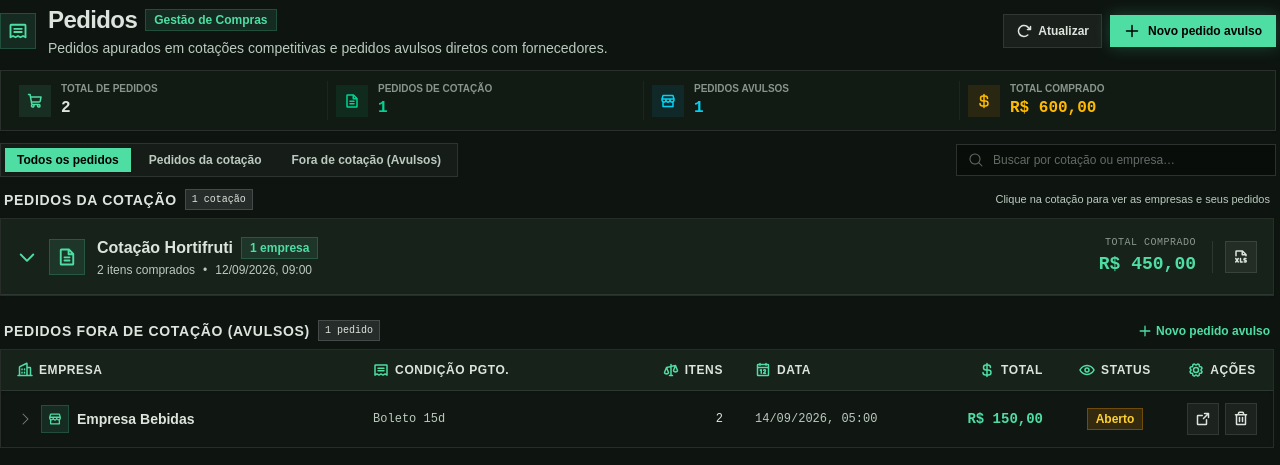
Test: filtra por tipo de pedido e permite buscar por texto
Expected: the heading "Cotação Hortifruti" is shown, top-left (97, 236), bottom-right (233, 260)
Expected: the text "Empresa Bebidas" is shown, top-left (77, 409), bottom-right (194, 429)
Filtra só para avulsos
Click the button "Fora de cotação (Avulsos)" at (366, 160), box top-left (280, 148), bottom-right (453, 172)
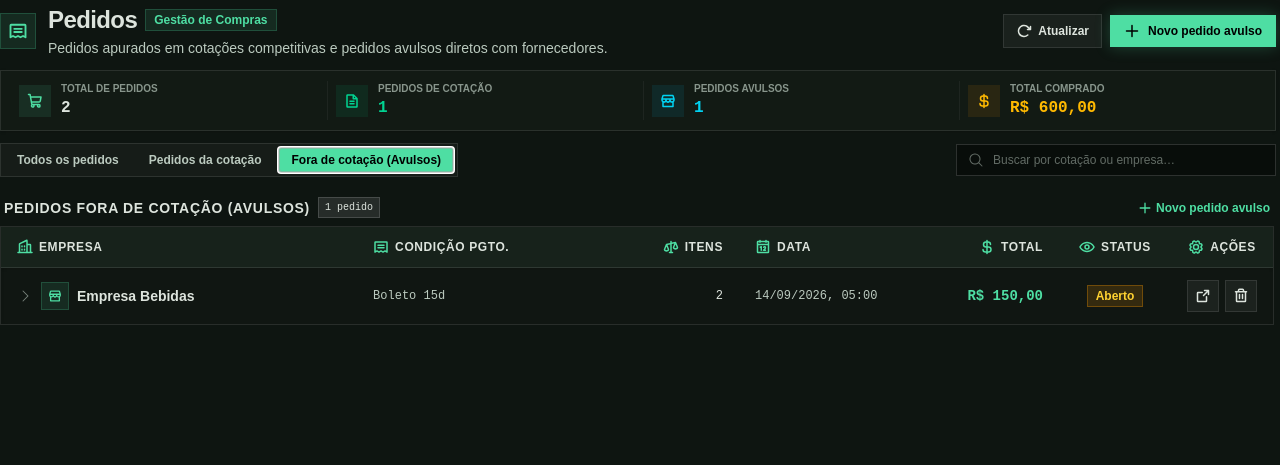
Expected: the text "Empresa Bebidas" is shown, top-left (77, 286), bottom-right (194, 306)
Result: the button "Cotação Hortifruti" is gone
Click the button "Todos os pedidos" at (68, 160), box top-left (5, 148), bottom-right (131, 172)
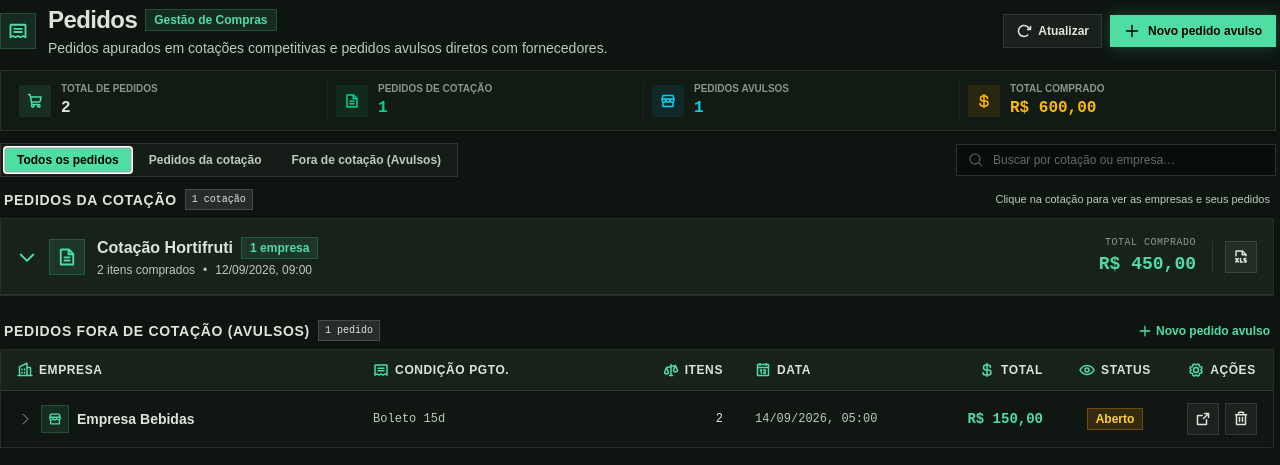
Type "Hortifruti" into the search field named "Buscar pedidos" at (1116, 160), box top-left (956, 144), bottom-right (1276, 176)
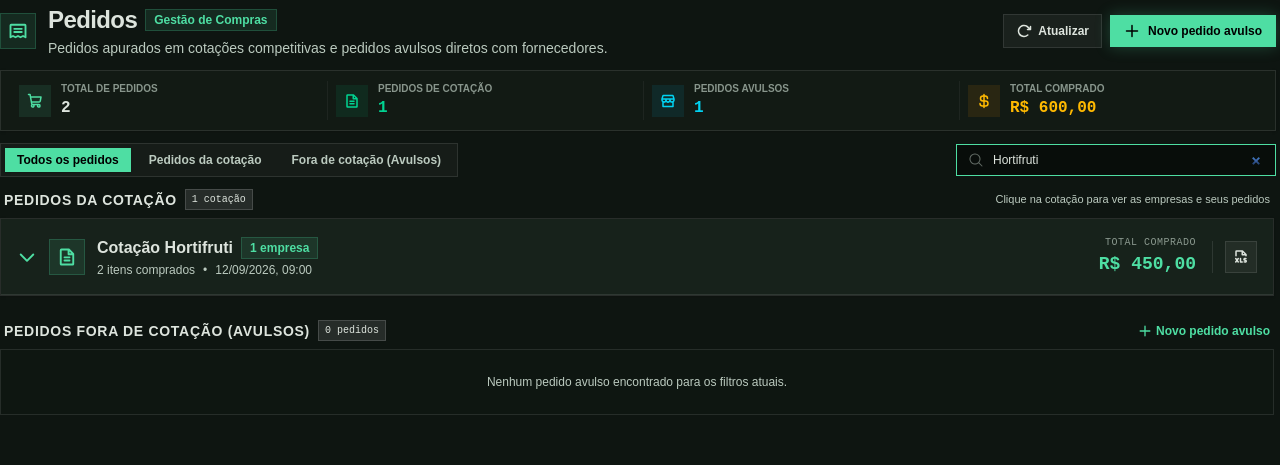
Result: the heading "Cotação Hortifruti" is shown at top-left (97, 236), bottom-right (233, 260)
Result: the text "Empresa Bebidas" is gone
